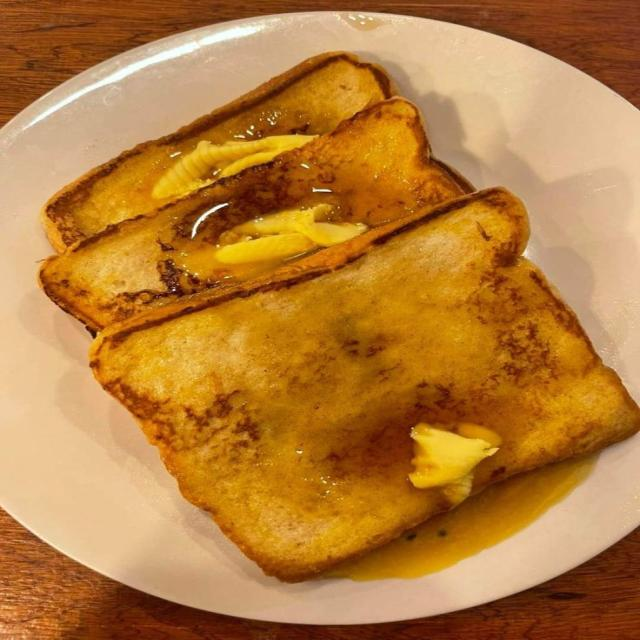toast bread: (91, 189, 639, 581), (40, 98, 467, 330), (42, 53, 395, 251)
